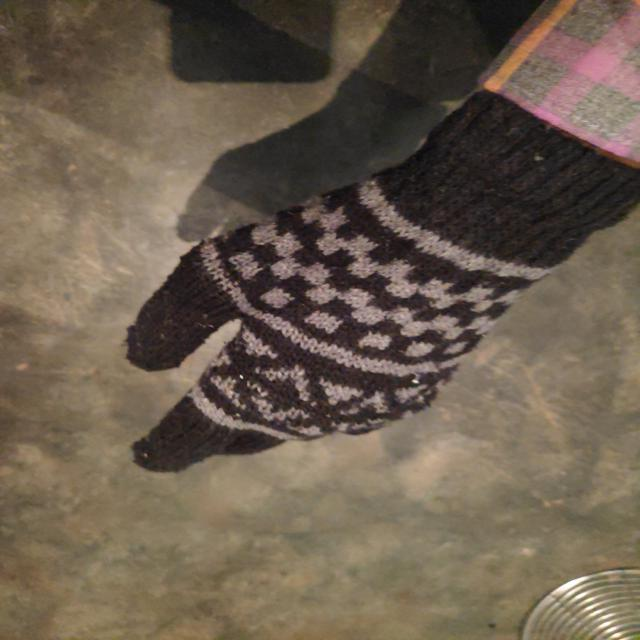gloved_hand: (119, 88, 638, 480)
